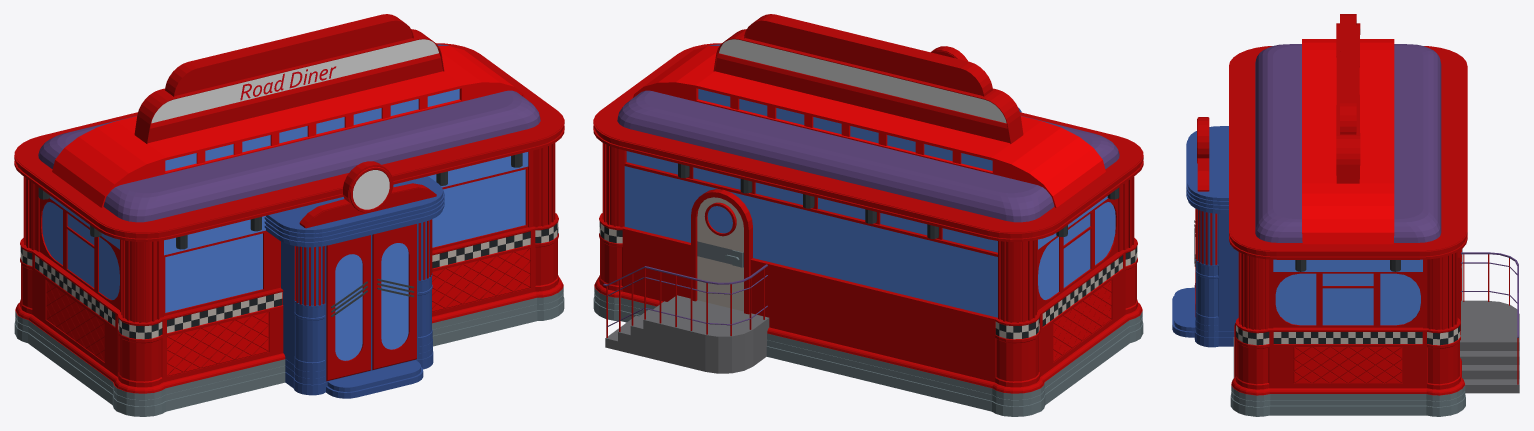
The model's file is Diner.gltf.
3 views of the same model, side by side, from view 1: azimuth 30°, elevation 25°; view 2: azimuth 150°, elevation 25°; view 3: azimuth 270°, elevation 25° (orthographic). The views are drawn at different scales.
Visible parts, largest first — view 1: Diner; view 2: Diner; view 3: Diner.
Boxes of the visible parts, box(x1,y1,x2,y2) form: Diner: box(14, 14, 564, 416); Diner: box(593, 14, 1143, 416); Diner: box(1172, 14, 1519, 416).
Size of the model in its own units: 6.18 by 3.59 by 4.39.
